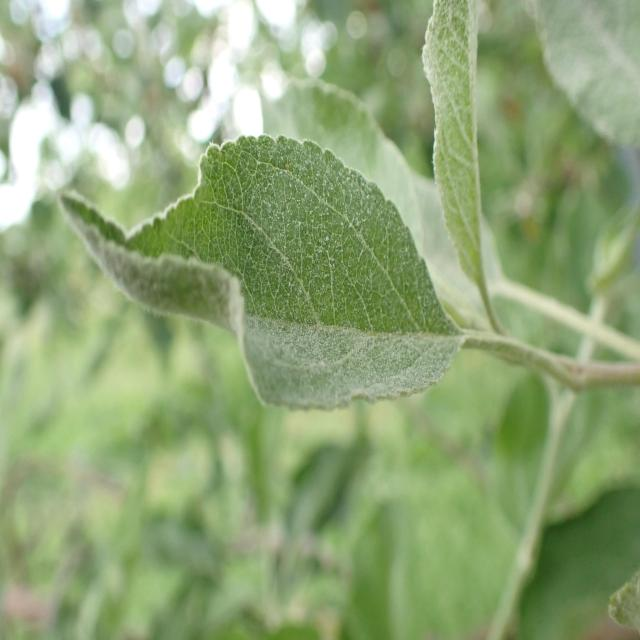Powdery_mildew: (54, 121, 454, 437), (398, 1, 530, 295)
